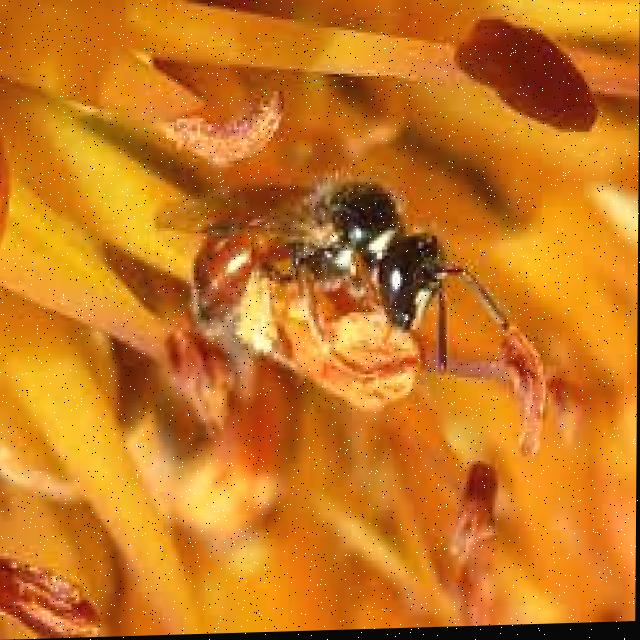Allodapula: (151, 166, 530, 389)
